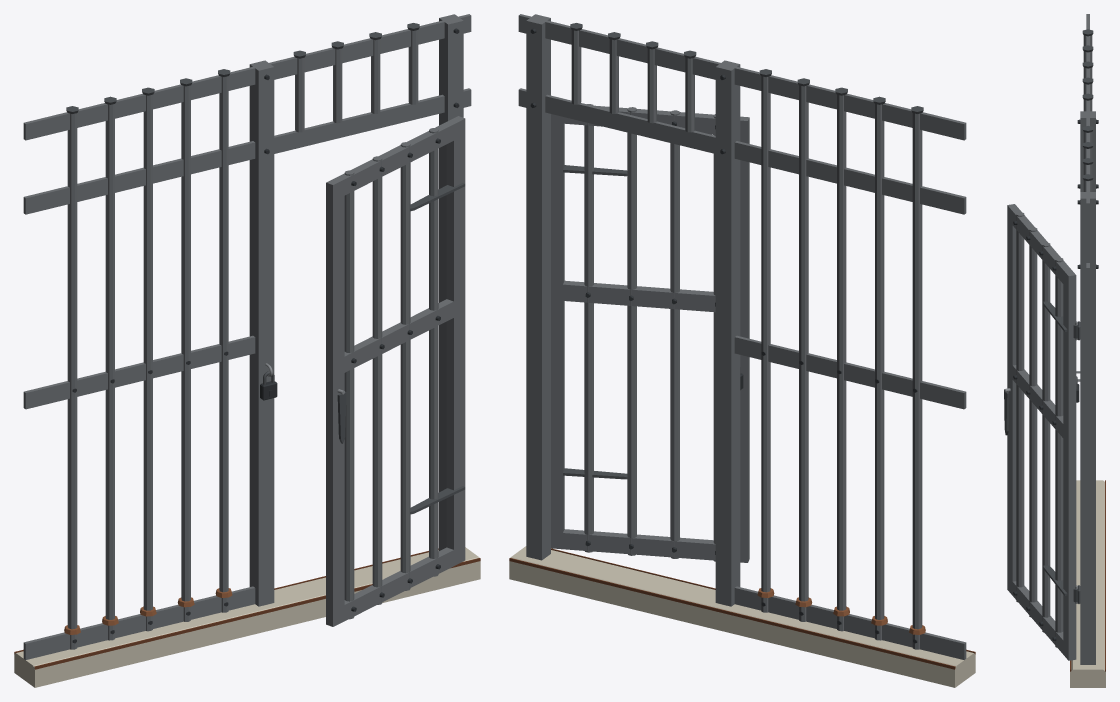
File: SM_LPD_Prison_PartitionGate_01.fbx
3 views of the same model, side by side, from view 1: azimuth 30°, elevation 25°; view 2: azimuth 150°, elevation 25°; view 3: azimuth 270°, elevation 25° (orthographic). The views are drawn at different scales.
Parts seen in each view (by area): view 1: SM_LPD_Prison_PartitionGate_01; view 2: SM_LPD_Prison_PartitionGate_01; view 3: SM_LPD_Prison_PartitionGate_01.
Part boxes in pixels (left/top/right/bottom): SM_LPD_Prison_PartitionGate_01: left=14, top=14, right=480, bottom=687; SM_LPD_Prison_PartitionGate_01: left=509, top=14, right=975, bottom=687; SM_LPD_Prison_PartitionGate_01: left=1004, top=14, right=1105, bottom=687.
Size of the model in its own units: 2 by 2.4 by 0.4553.
